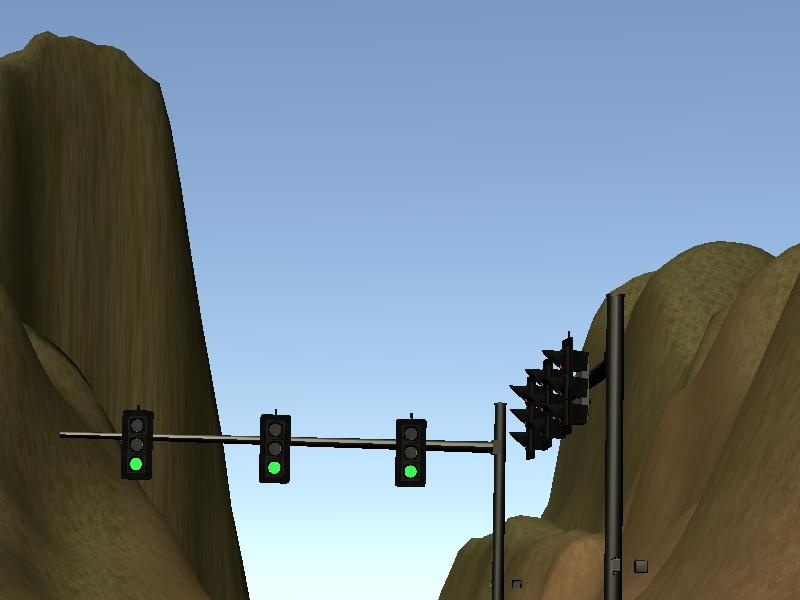green: (257, 413, 292, 484), (395, 417, 427, 488), (122, 410, 154, 480)
